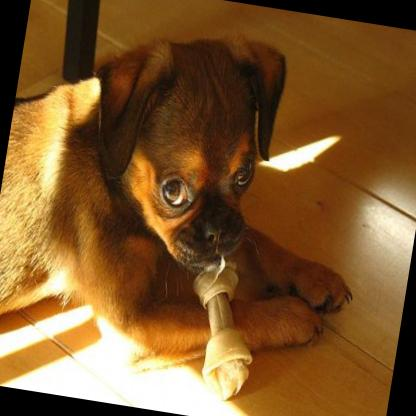Brabancon_griffon: (0, 0, 391, 394)
